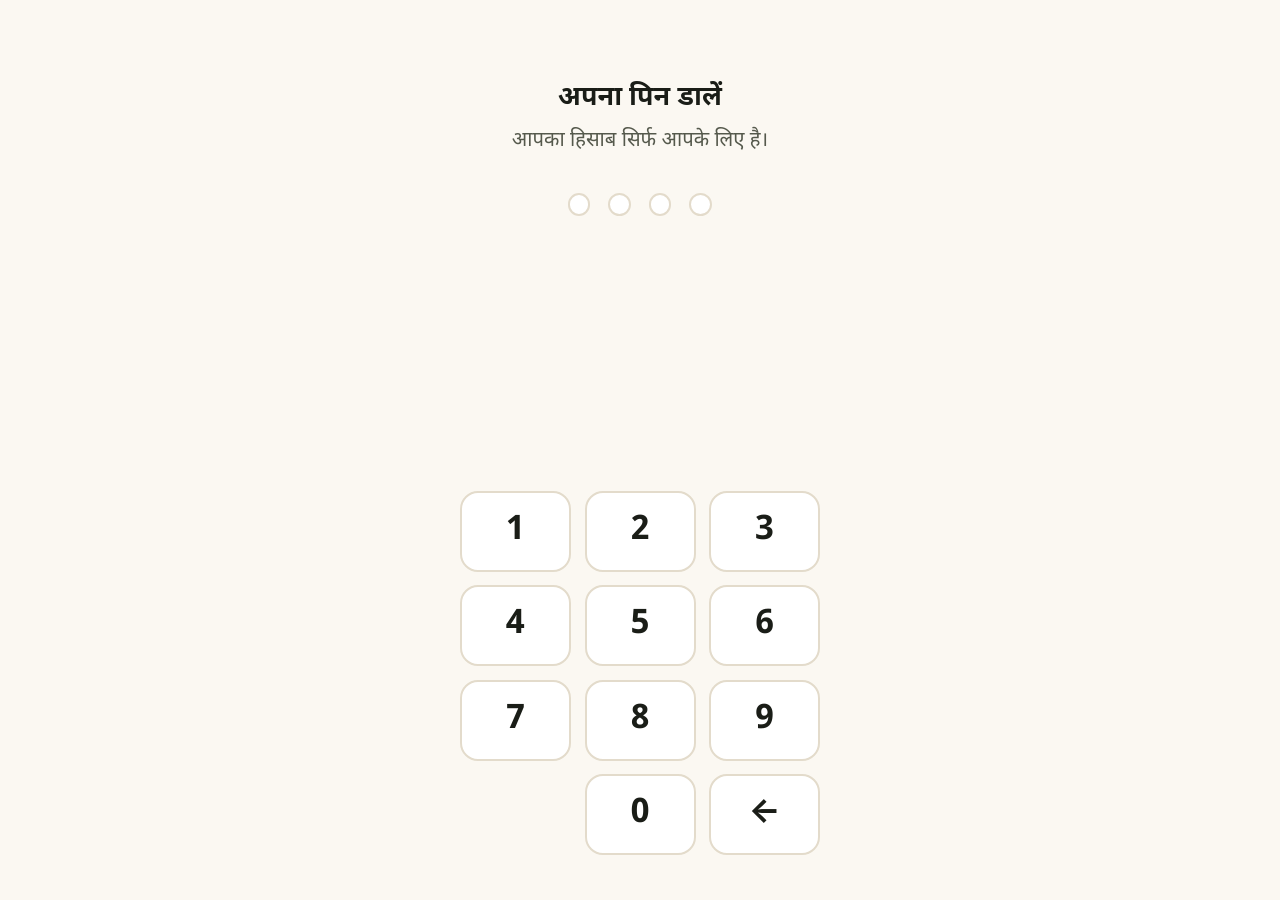
every navigation destination opens › खाते
Expected: the heading "अपना पिन डालें" is shown, [558, 81, 722, 117]
Click the button "1": (516, 531) [460, 490, 571, 572]
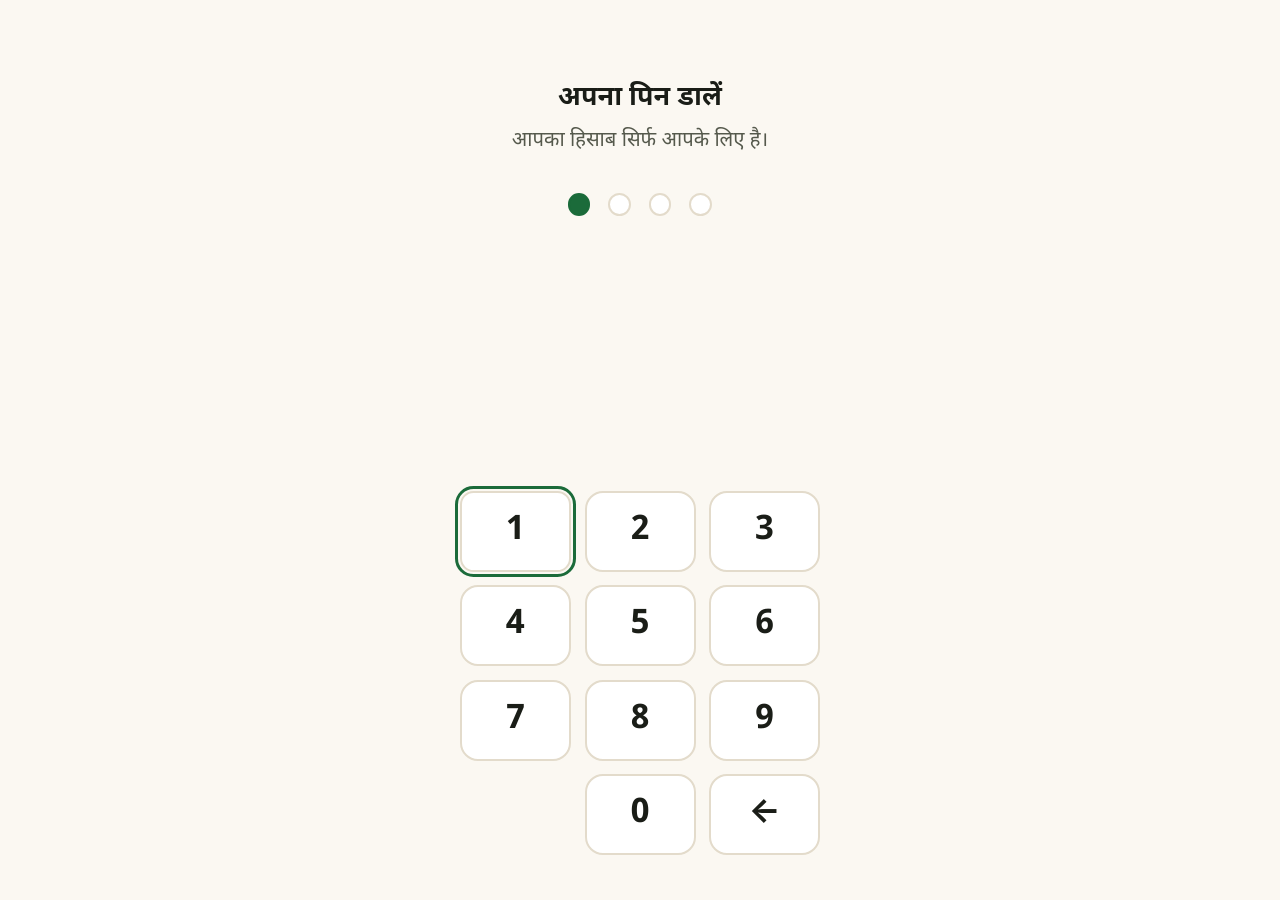
Click the button "2": (640, 531) [584, 490, 696, 572]
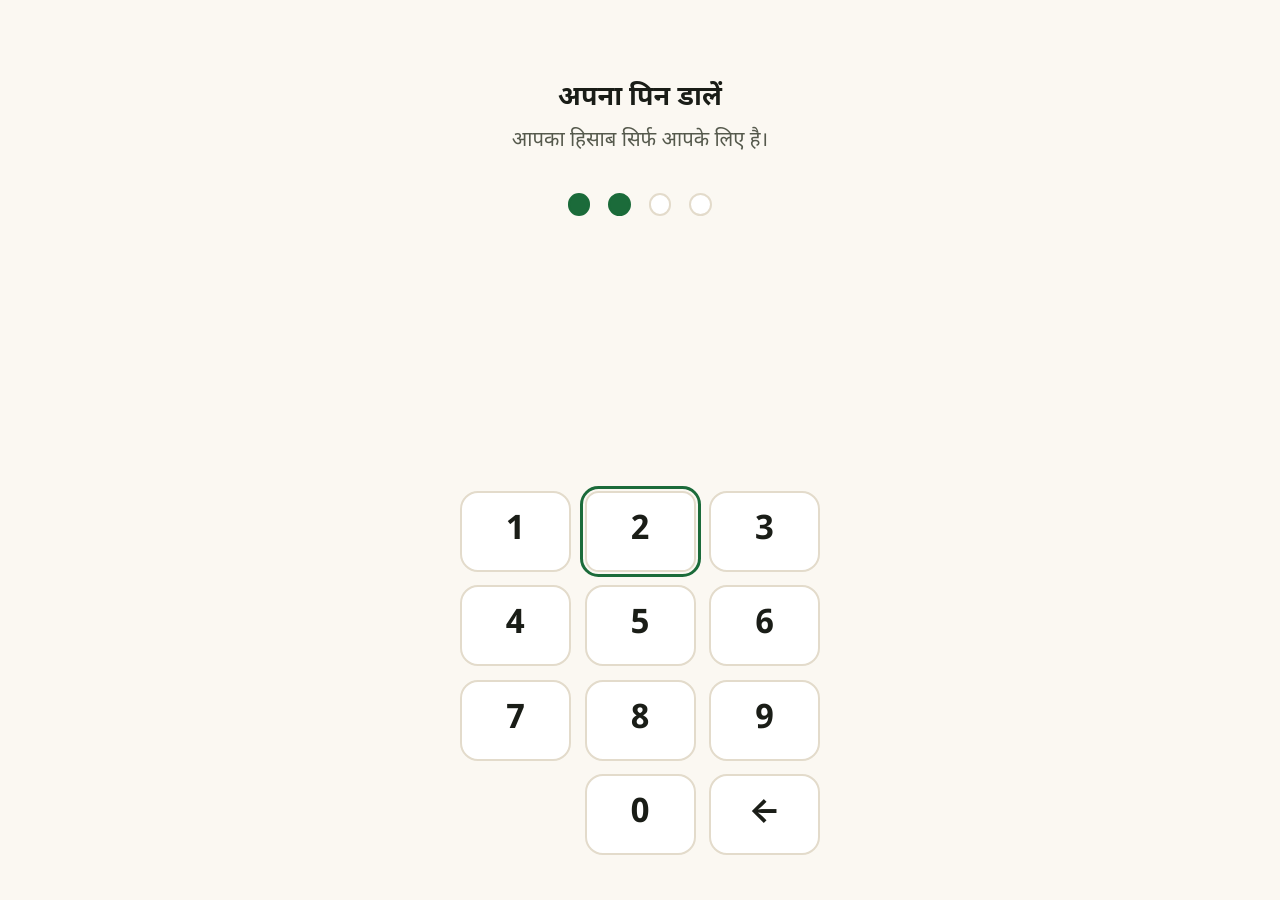
Click the button "3": (764, 531) [709, 490, 820, 572]
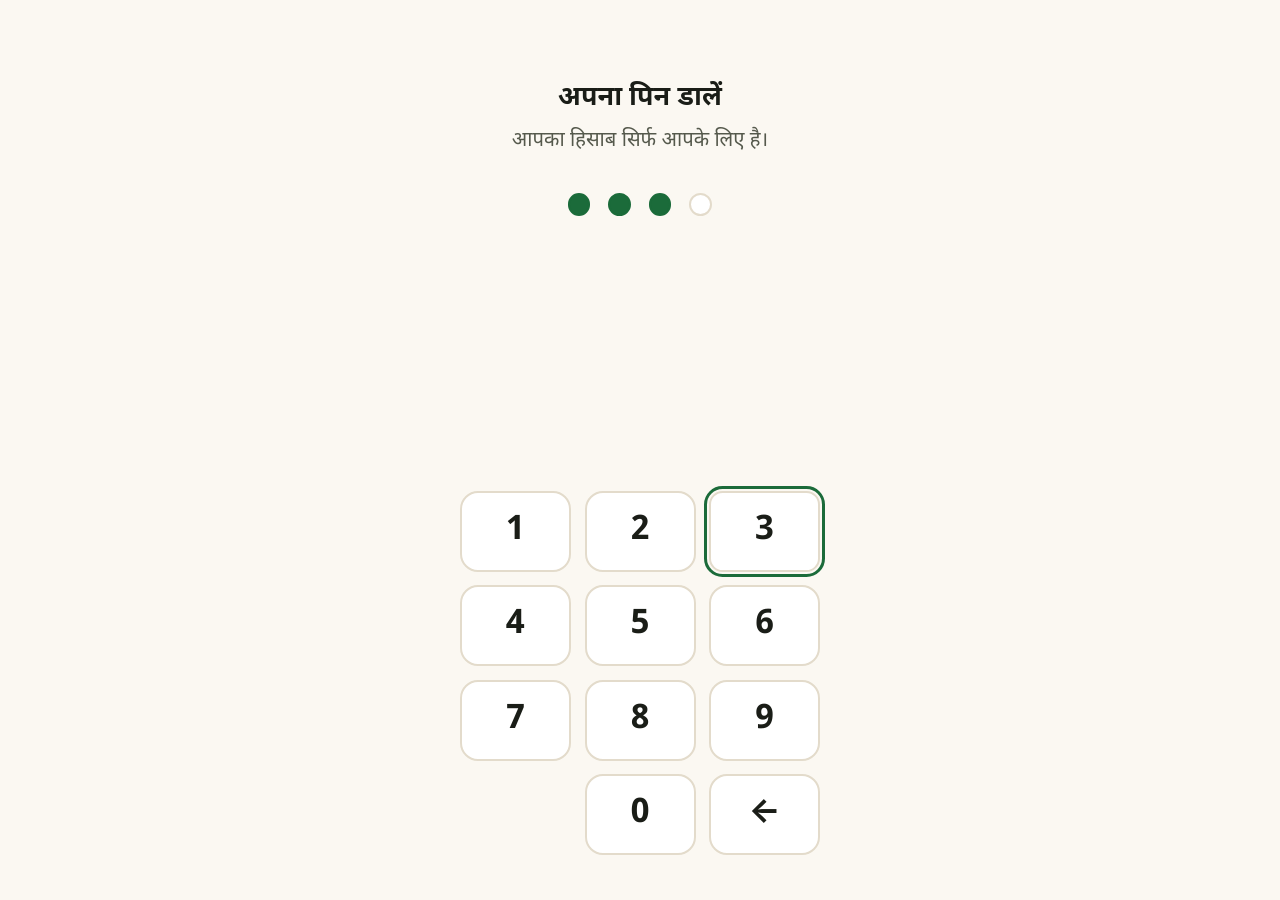
Click the button "4": (516, 626) [460, 585, 571, 666]
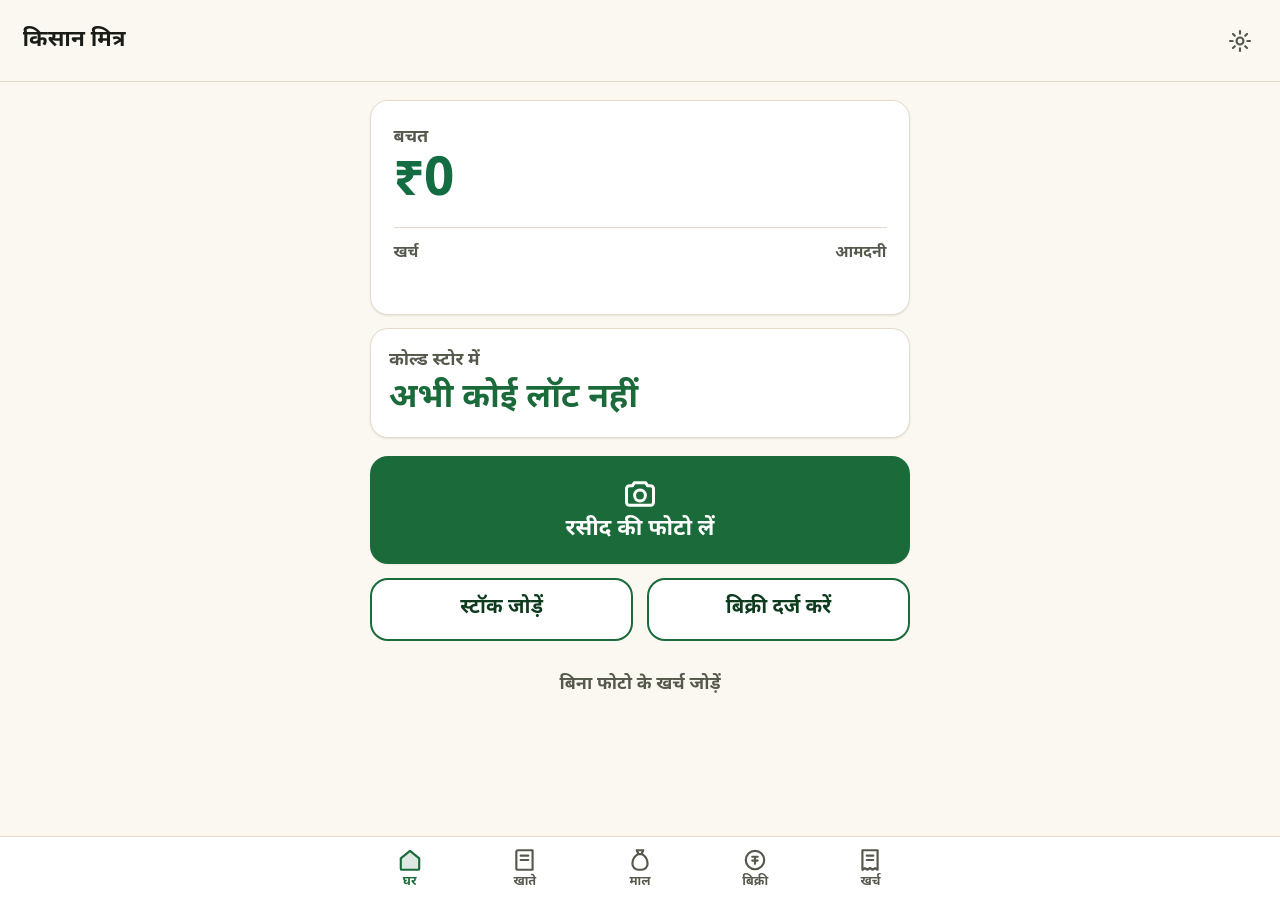
Result: the button "बिना फोटो के खर्च जोड़ें" is shown at [370, 654, 910, 717]
Click the button "खाते": (525, 868) [467, 837, 582, 899]
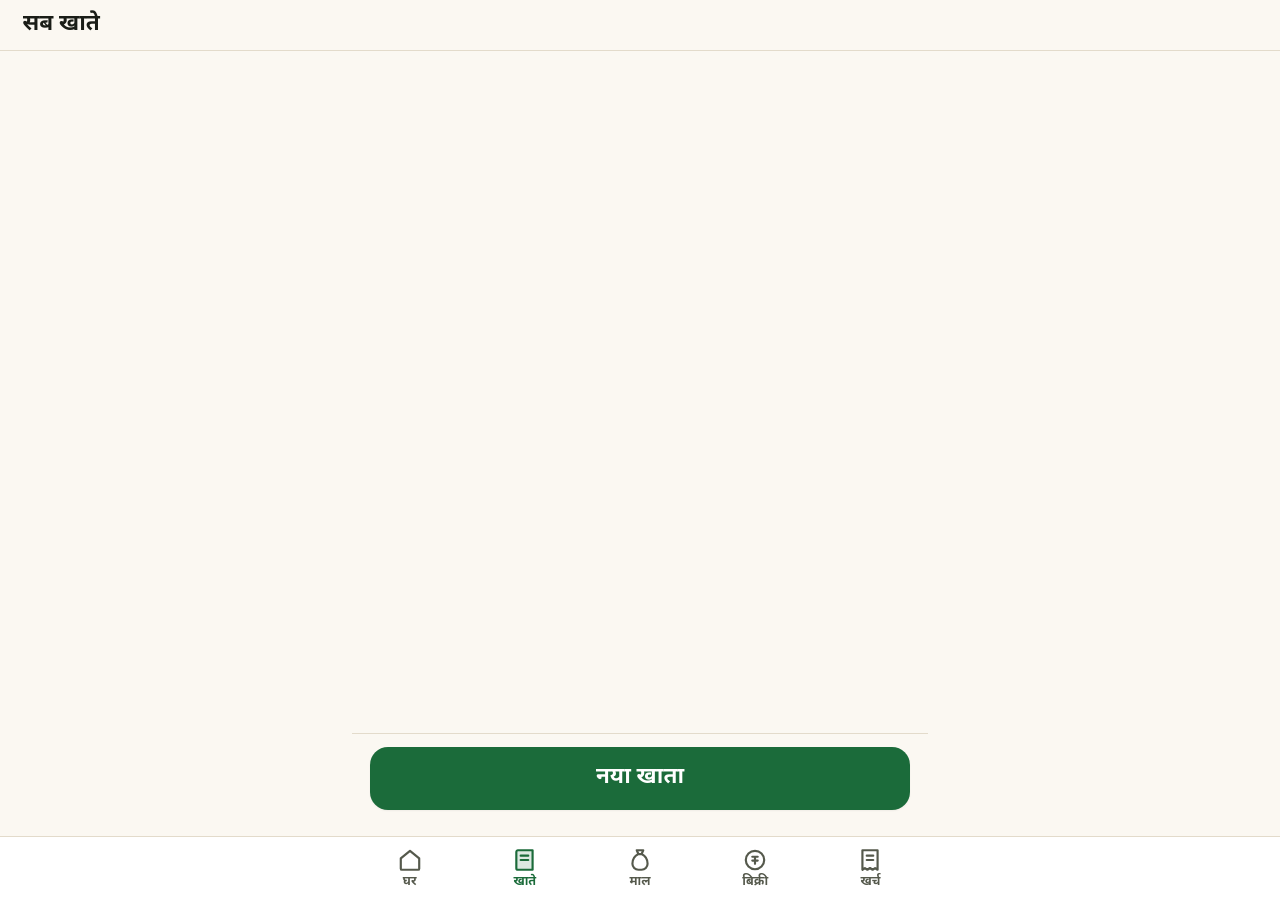
Result: the heading "सब खाते" is shown at [22, 10, 100, 39]
